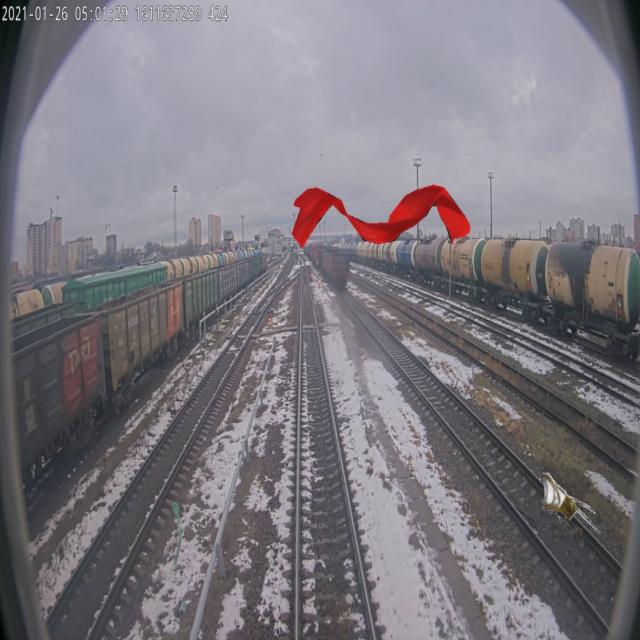floating object: (291, 184, 471, 248), (542, 473, 602, 537), (173, 502, 182, 566)
